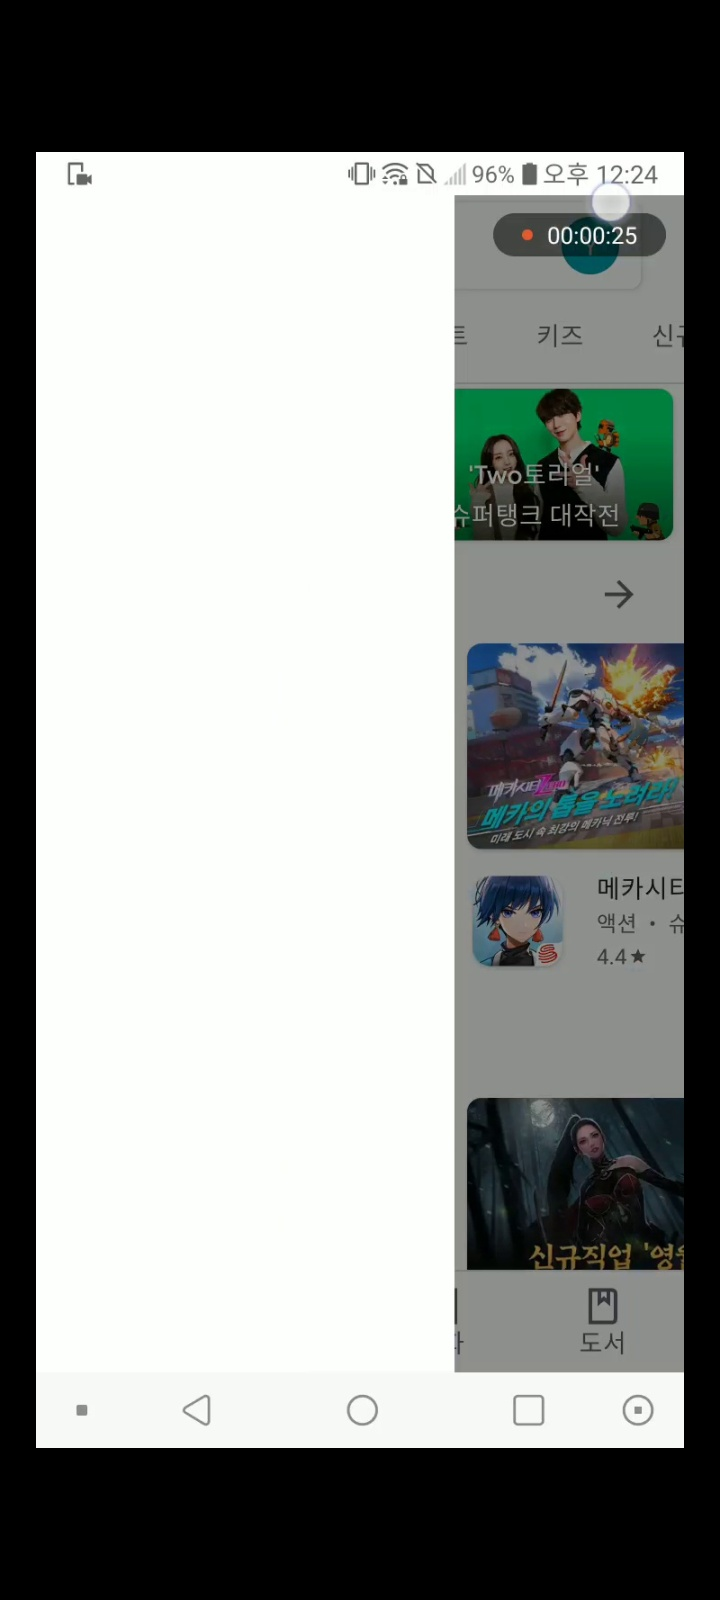Cursor: (588, 179, 633, 224)
